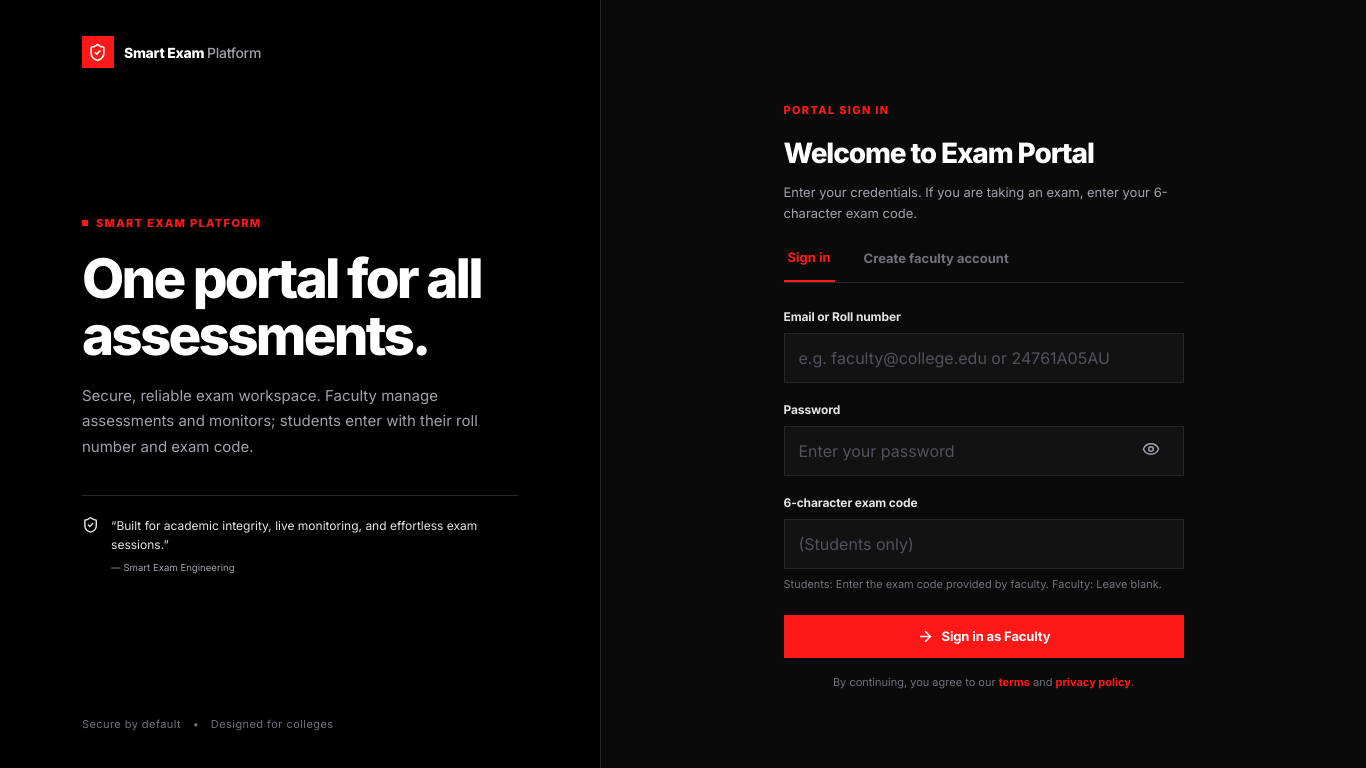
Test: UnifiedLogin Component › switches button label dynamically to student login when exam code is entered
Type "A1B2C3" into the field labelled "6-character exam code" at (984,544), box [784, 519, 1184, 569]
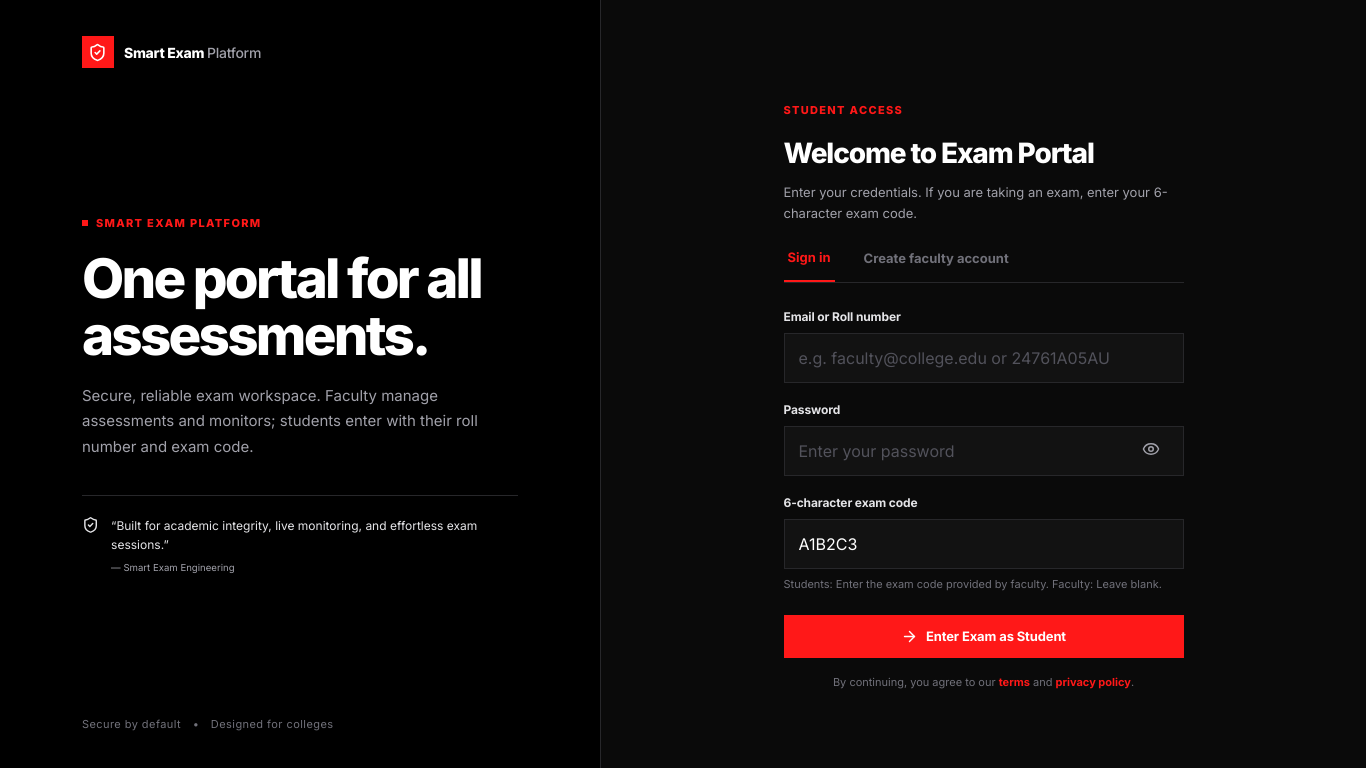
Now the button "Enter Exam as Student" is shown, box [784, 615, 1184, 658]
Now the text "Student Access" is shown, box [784, 102, 903, 119]
